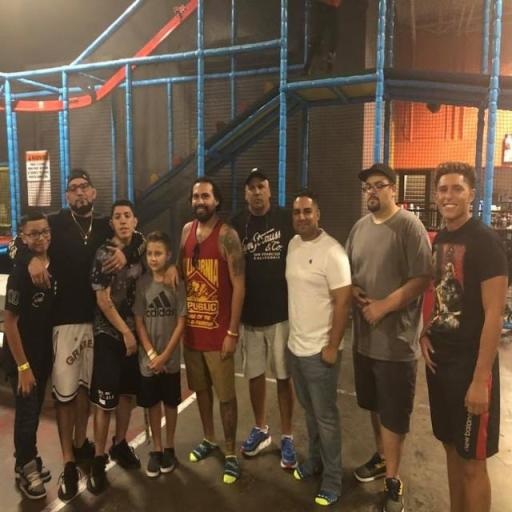Adidas: (143, 290, 178, 318)
